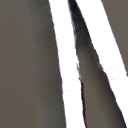crackTip: (65, 1, 127, 128)
